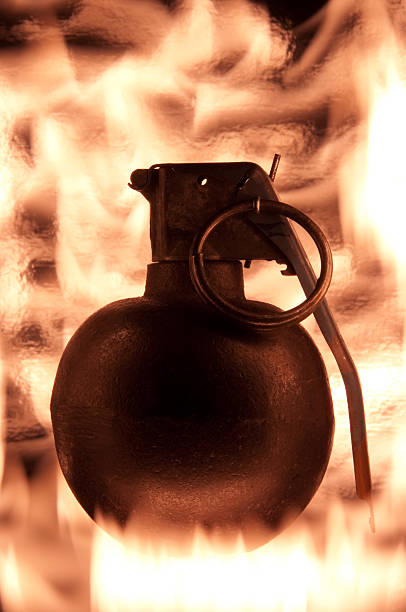e1: (46, 159, 373, 542)
